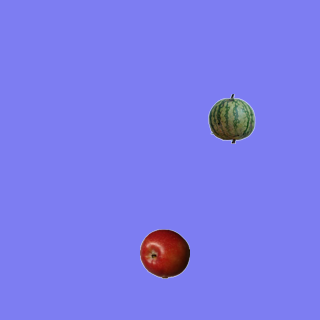Apple Braeburn: (139, 228, 189, 278)
Watermelon: (206, 93, 256, 143)
